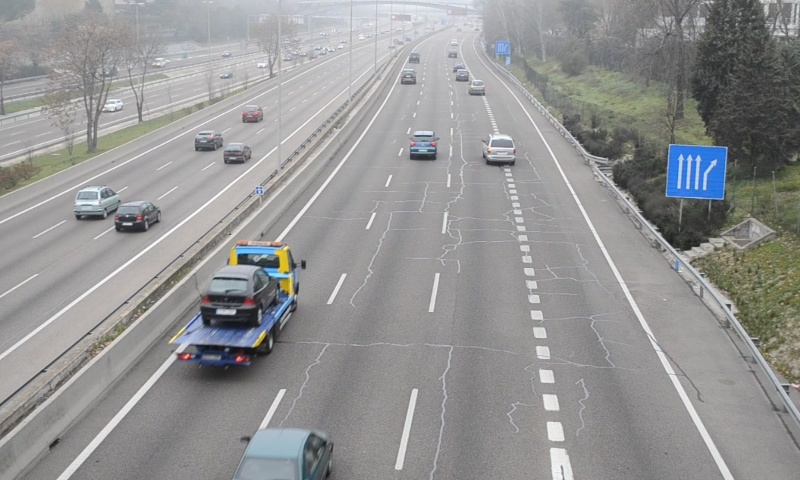car: (484, 133, 516, 165), (409, 129, 437, 158), (400, 67, 417, 84), (468, 78, 485, 94)
small-truck: (169, 240, 298, 365)
